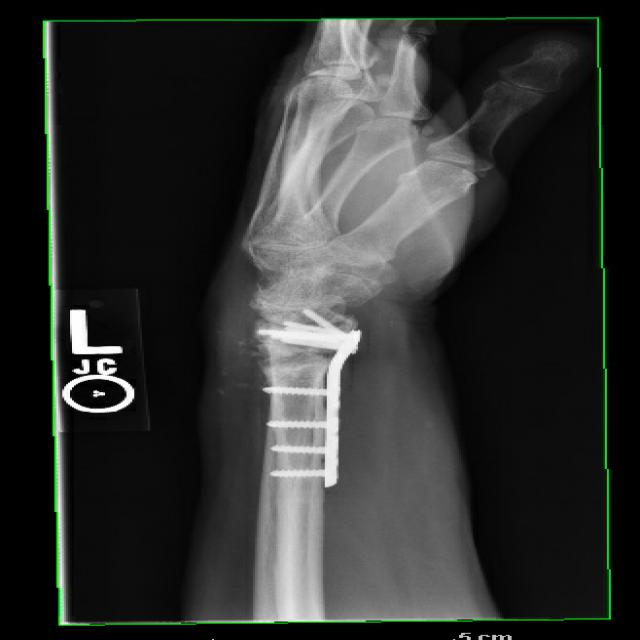x-ray: (247, 304, 381, 495)
